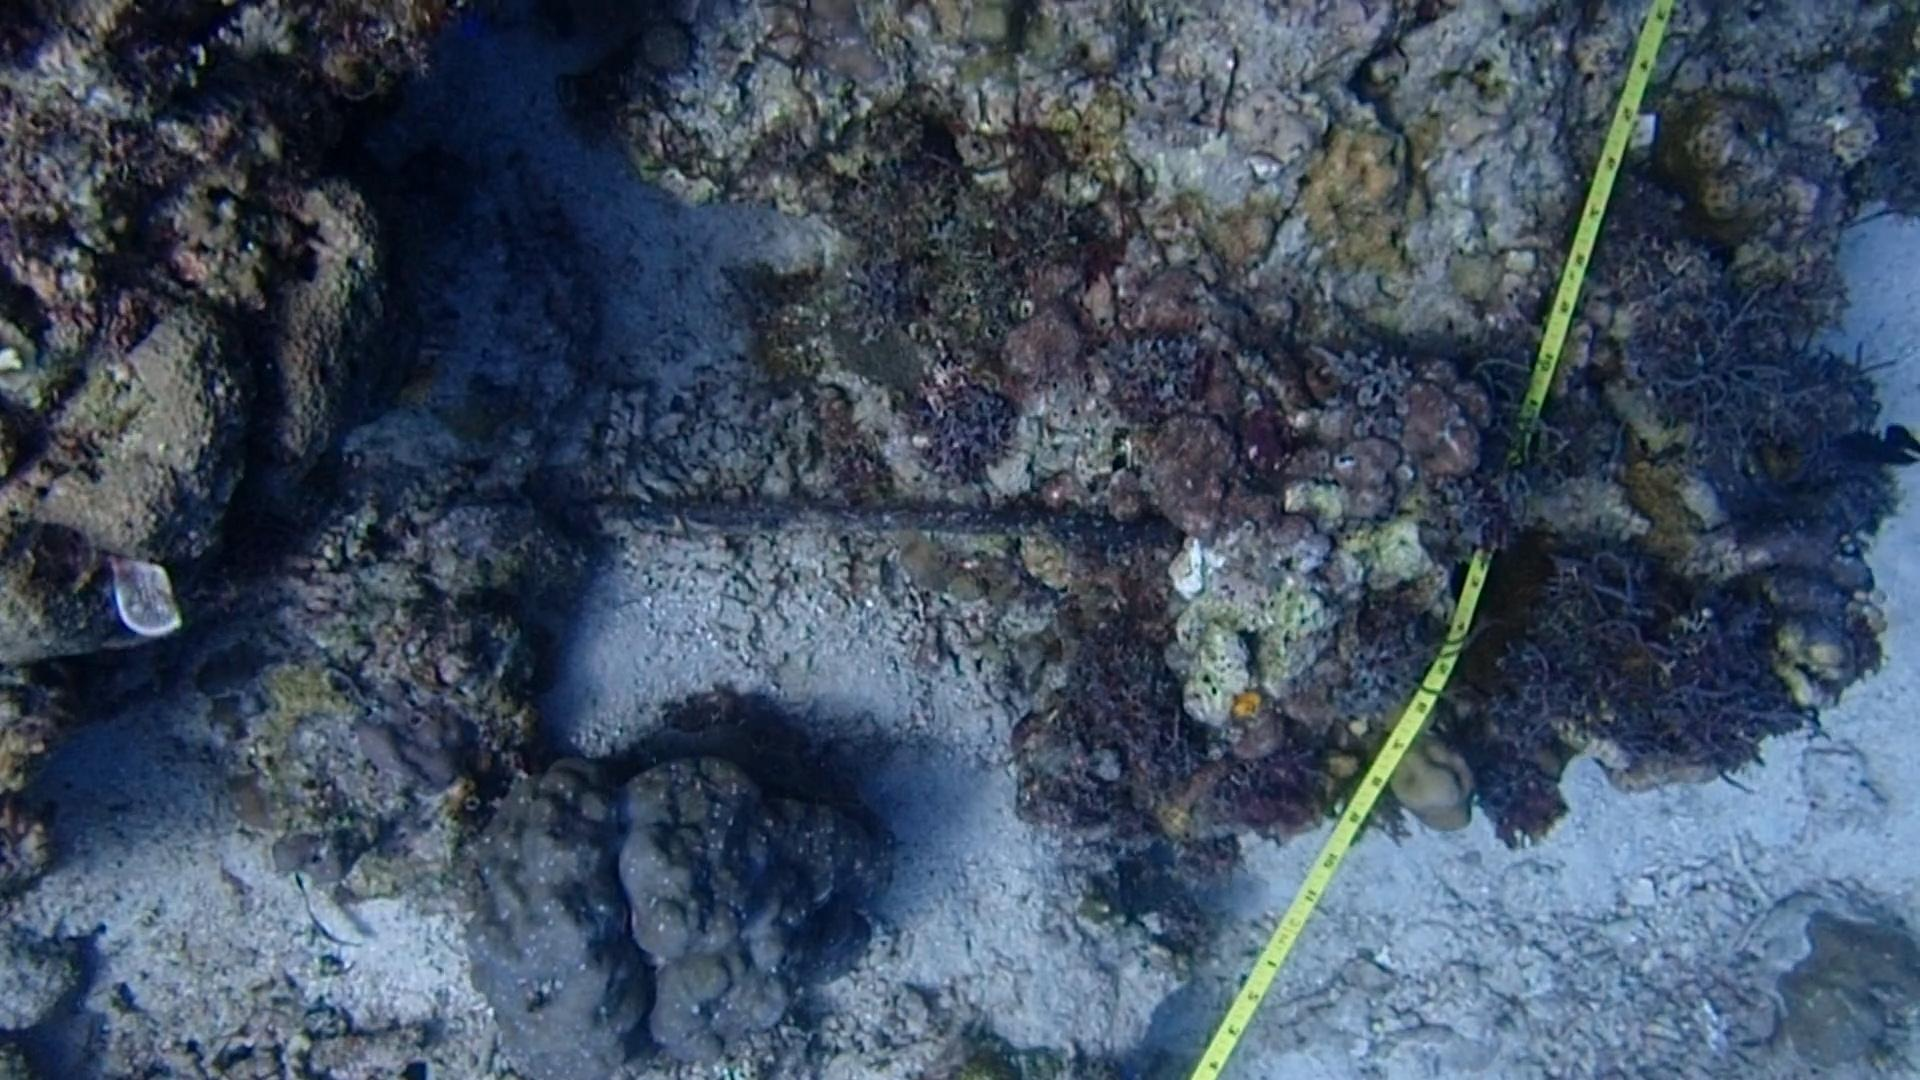Dark Fish: (1825, 402, 1920, 480)
